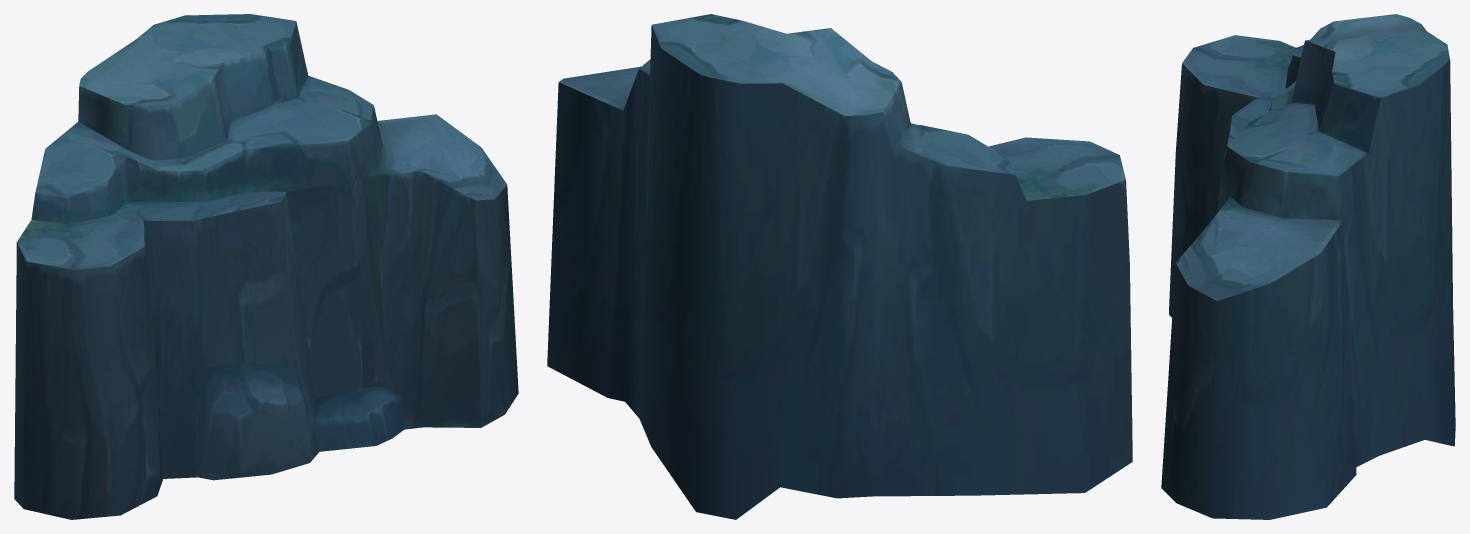
Rendered from map_113_shitou_3.fbx.
3 views of the same model, side by side, from view 1: azimuth 30°, elevation 25°; view 2: azimuth 150°, elevation 25°; view 3: azimuth 270°, elevation 25° (orthographic). The views are drawn at different scales.
Parts seen in each view (by area): view 1: map_113_shitou_3; view 2: map_113_shitou_3; view 3: map_113_shitou_3.
Part boxes in pixels (x1,y1,x2,y2): map_113_shitou_3: [14, 14, 518, 519]; map_113_shitou_3: [547, 14, 1132, 519]; map_113_shitou_3: [1161, 14, 1455, 519].
Size of the model in its own units: 6.86 by 5.1 by 3.53.
